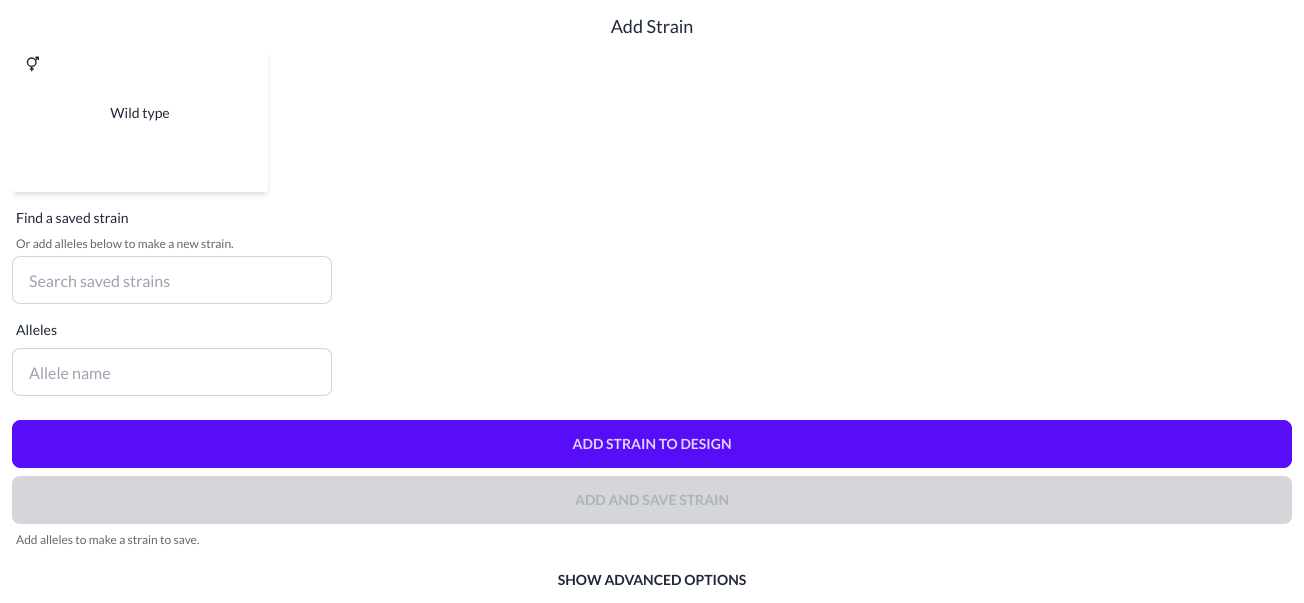
Scenario: Strain form › the strain field › a name typed once the strain has alleles keeps the alleles
The image size is (1304, 603).
Click the field labelled "Alleles". click: (172, 372)
box: [12, 348, 332, 396]
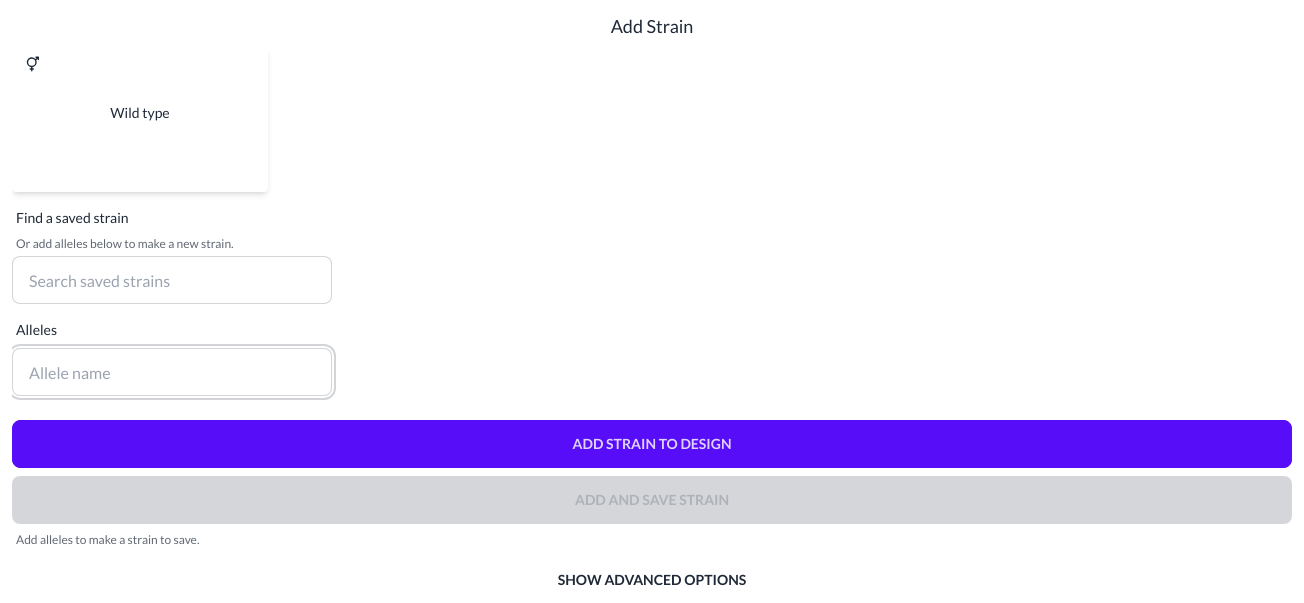
Type keys "ed"
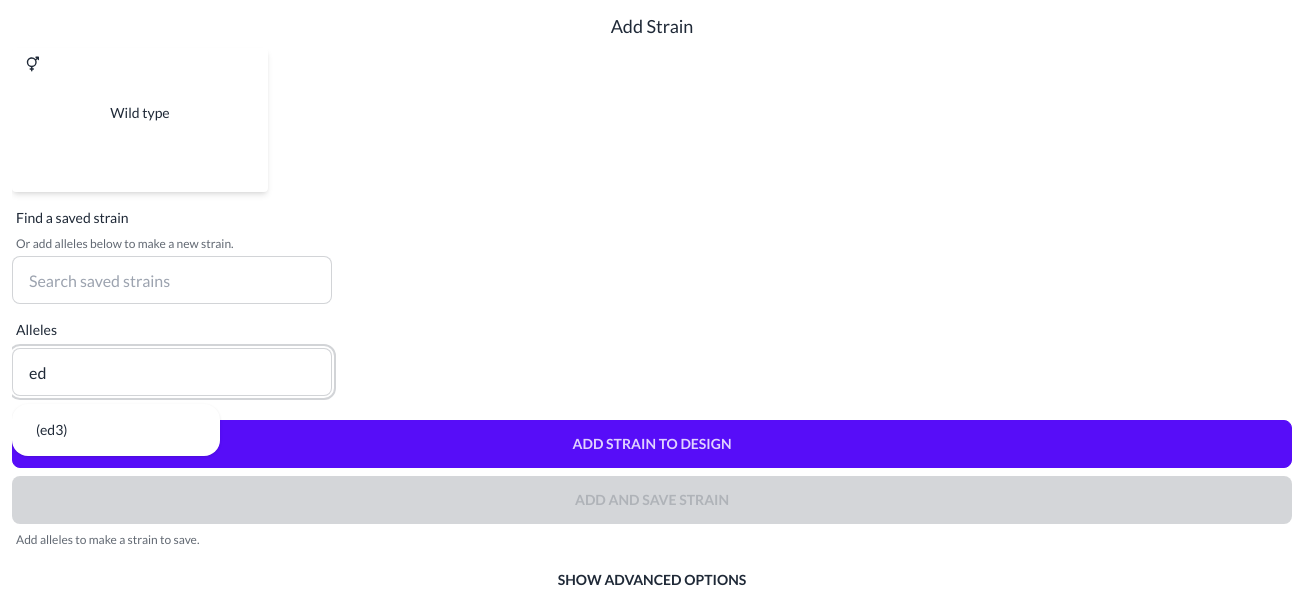
Click the link "(ed3)". click: (52, 430)
box: [36, 421, 68, 438]
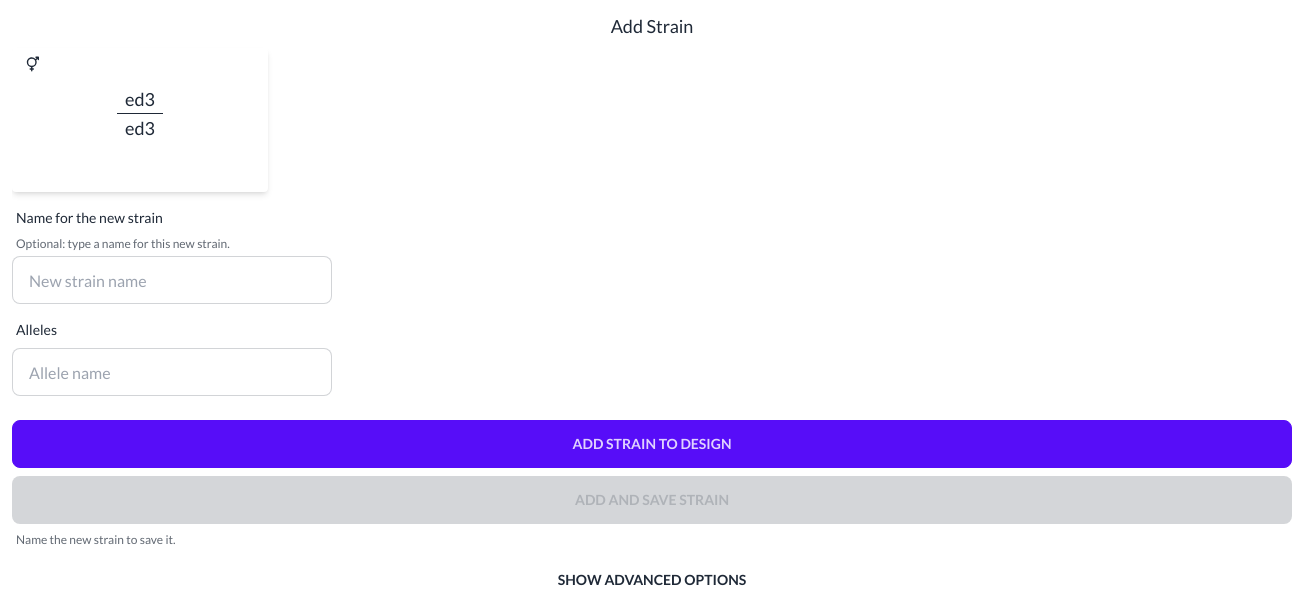
Type "MyStrain" into the field labelled "Name for the new strain". click: (172, 280)
box: [12, 256, 332, 304]
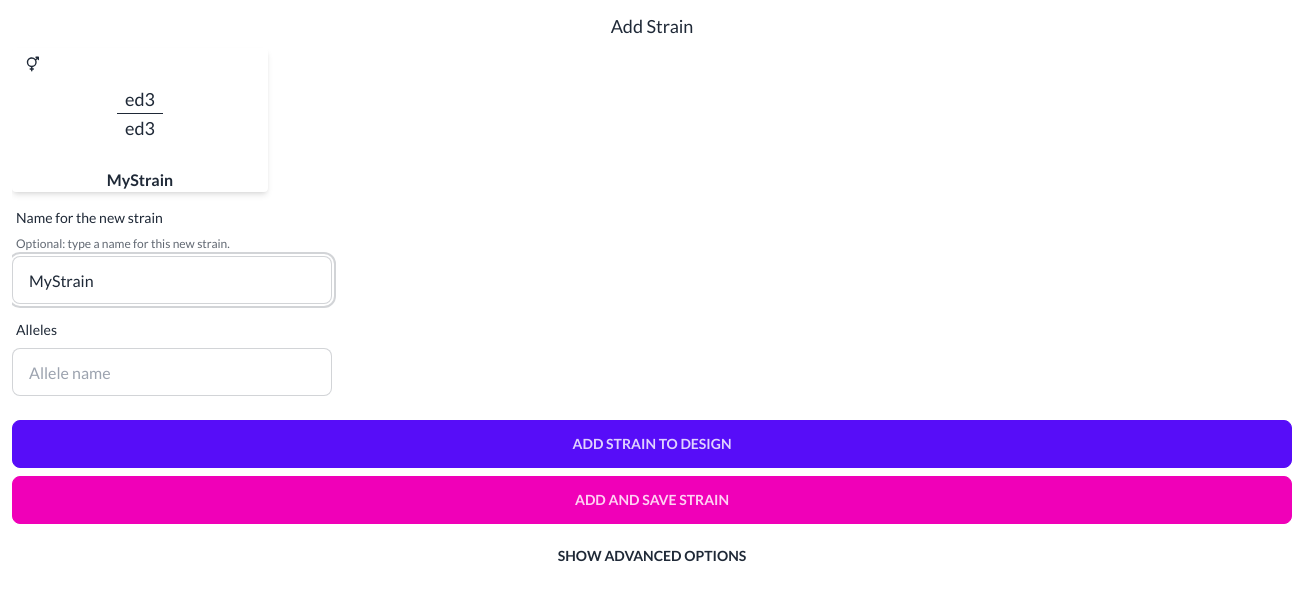
expect the 1st text "ed3" is shown: met, box [125, 88, 155, 110]
expect the element with test id "strainCard" shows "MyStrain": met, box [107, 170, 173, 189]
